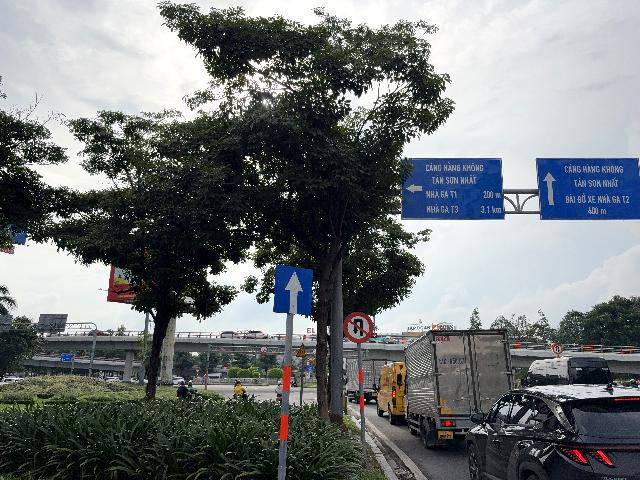cam-quay-dau-xe: (343, 312, 374, 343)
duong-mot-chieu: (272, 264, 313, 316)
